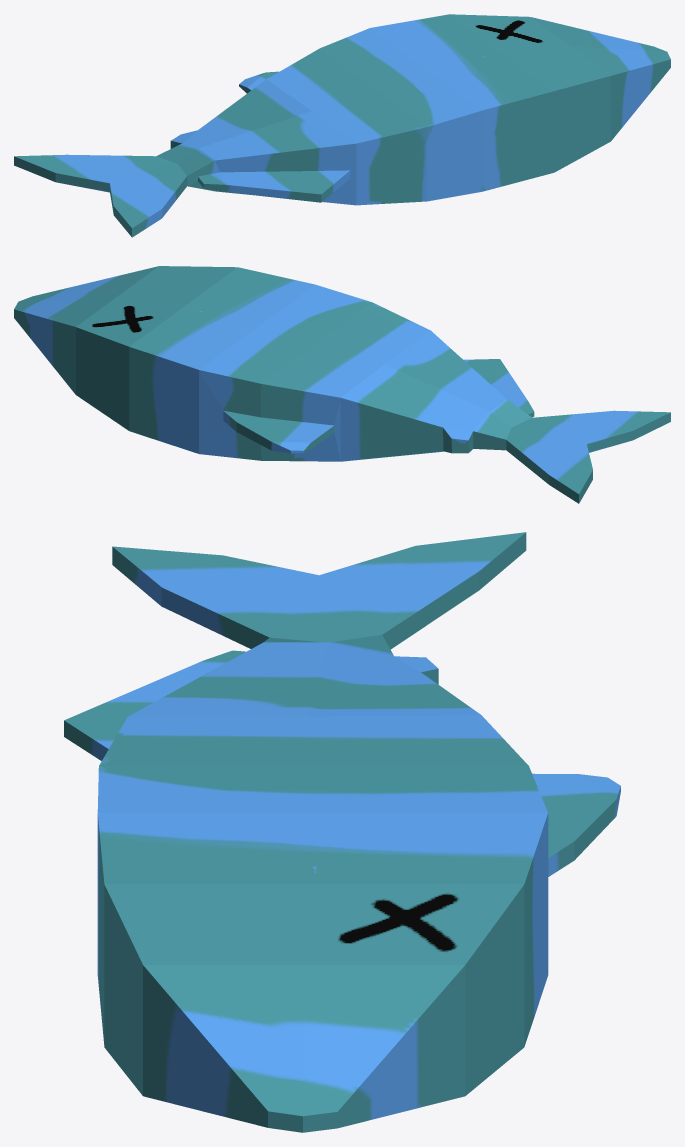
File: Peixe.fbx
3 views of the same model, one above another, from view 1: azimuth 30°, elevation 25°; view 2: azimuth 150°, elevation 25°; view 3: azimuth 270°, elevation 25° (orthographic). The views are drawn at different scales.
Visible parts, largest first — view 1: barbatanas; view 2: barbatanas; view 3: barbatanas.
Part boxes in pixels (left/top/right/bottom): barbatanas: left=14, top=14, right=670, bottom=237; barbatanas: left=14, top=266, right=670, bottom=503; barbatanas: left=64, top=532, right=620, bottom=1132.
Size of the model in its own units: 596 by 77.71 by 240.
